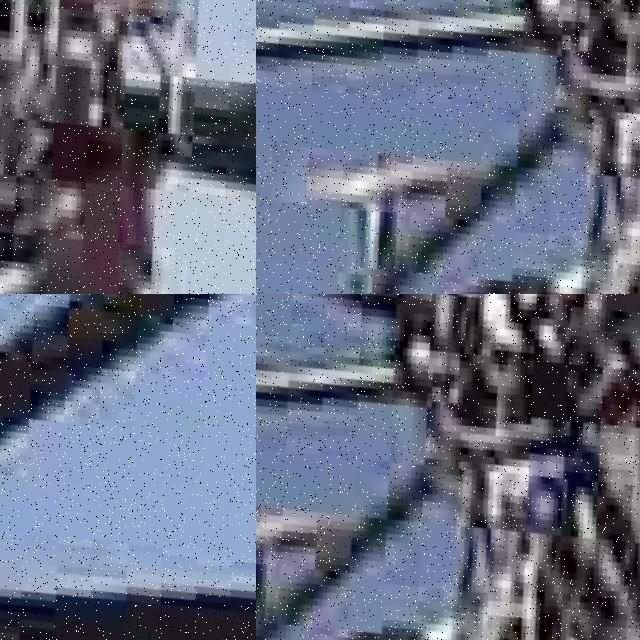drone: (256, 294, 640, 640), (256, 0, 640, 294), (0, 294, 256, 640), (0, 0, 256, 294)
